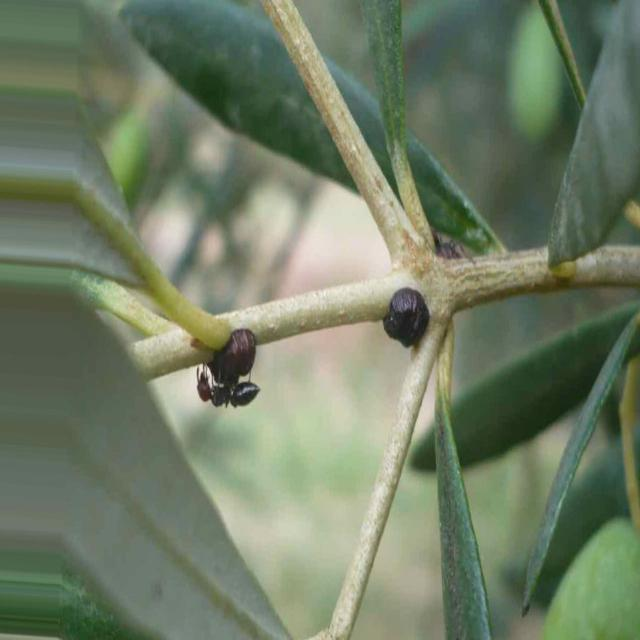Black Scale: (382, 287, 430, 348), (208, 329, 256, 388)
